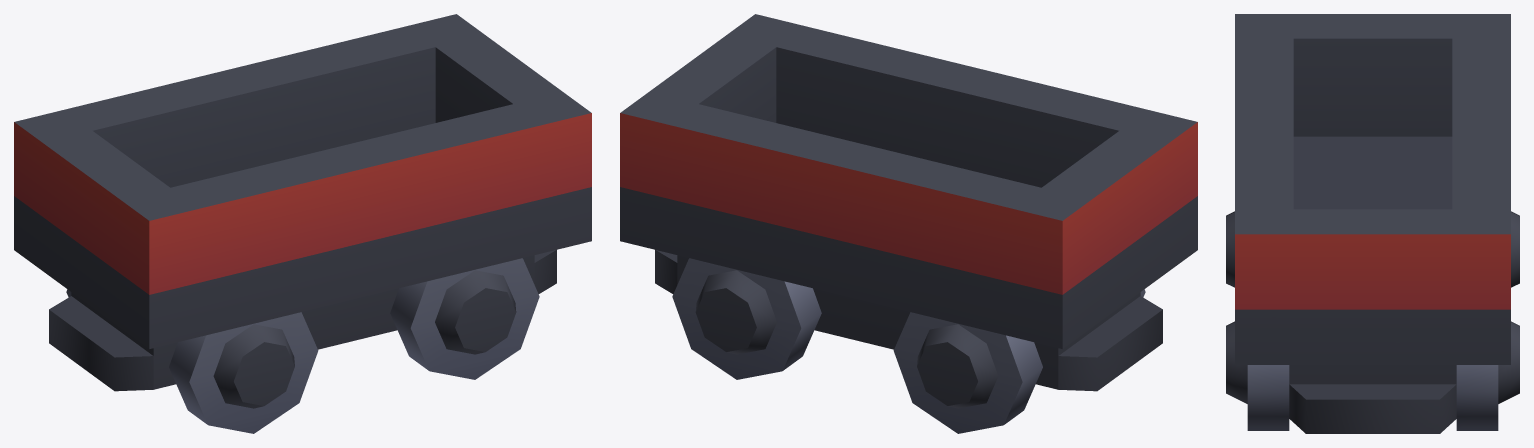
The model's file is train-tender.glb.
3 renders of one model, left to right at view 1: azimuth 30°, elevation 25°; view 2: azimuth 150°, elevation 25°; view 3: azimuth 270°, elevation 25°, orthographic. The views are drawn at different scales.
Visible parts, largest first — view 1: train-tender; view 2: train-tender; view 3: train-tender.
Part boxes in pixels (x1,y1,x2,y2): train-tender: [14, 14, 591, 433]; train-tender: [620, 14, 1197, 433]; train-tender: [1226, 14, 1519, 433].
Size of the model in its own units: 0.3457 by 0.1826 by 0.1949.
